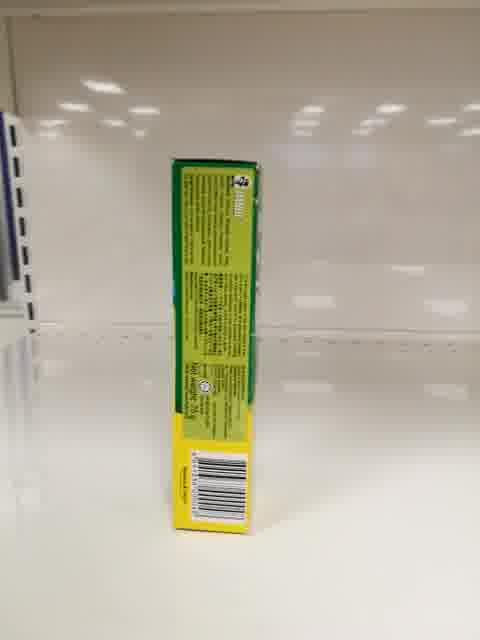toothpaste: (171, 158, 262, 537)
